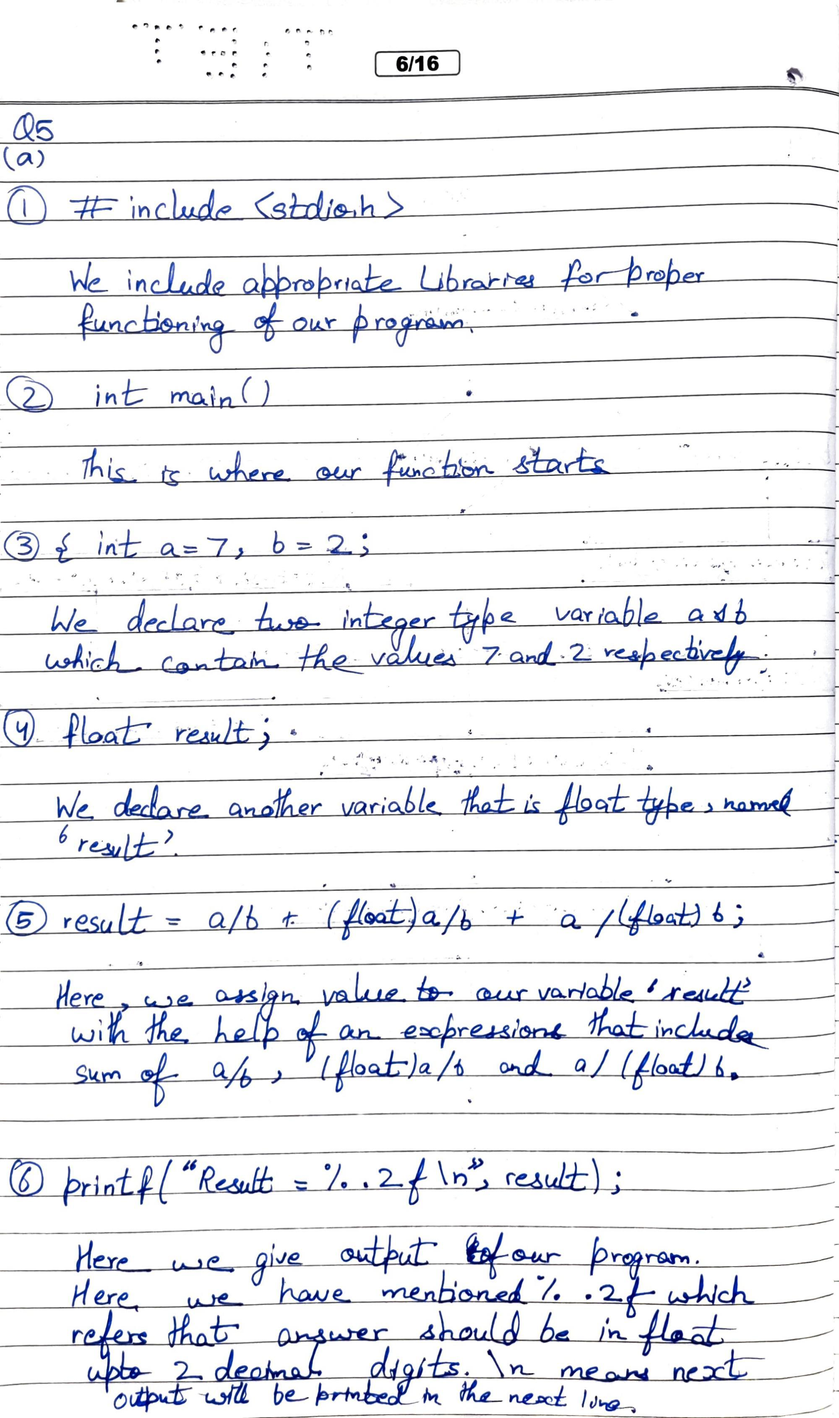cuttings: (465, 1232, 481, 1263)
